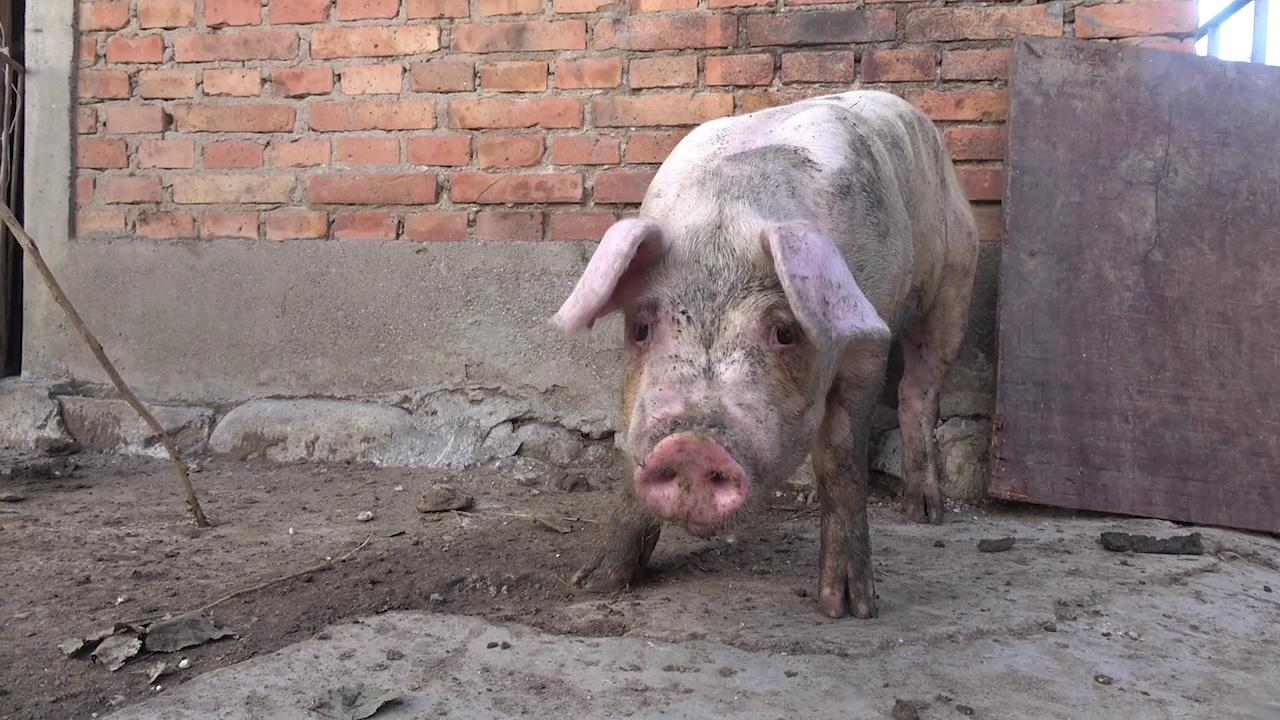Face: (545, 203, 906, 536)
